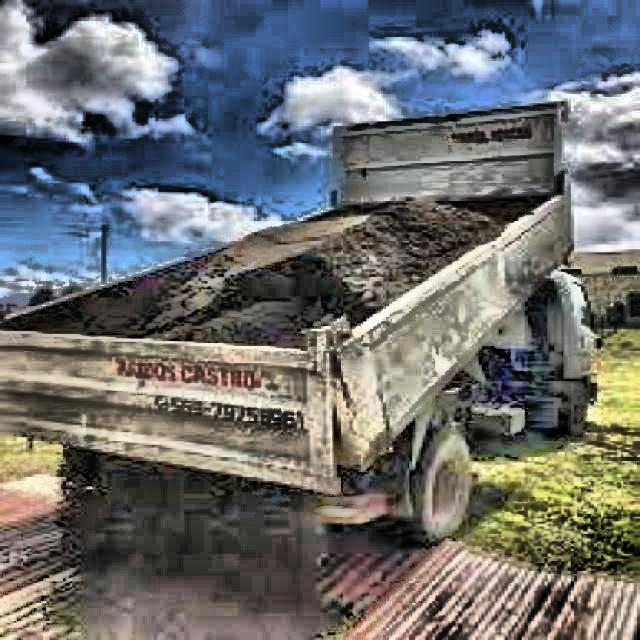dump_truck: (0, 88, 608, 560)
